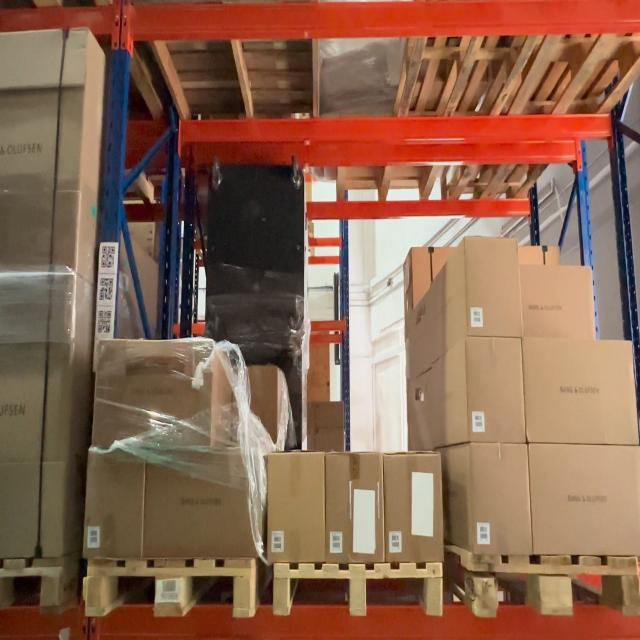box: (212, 167, 306, 339), (93, 348, 221, 444), (150, 442, 254, 553), (530, 338, 635, 446), (534, 458, 637, 548), (383, 444, 449, 566), (322, 450, 388, 564), (261, 445, 324, 561), (90, 442, 146, 569), (468, 455, 534, 547), (464, 231, 518, 336), (467, 344, 524, 442), (524, 270, 589, 341), (235, 367, 279, 439)
